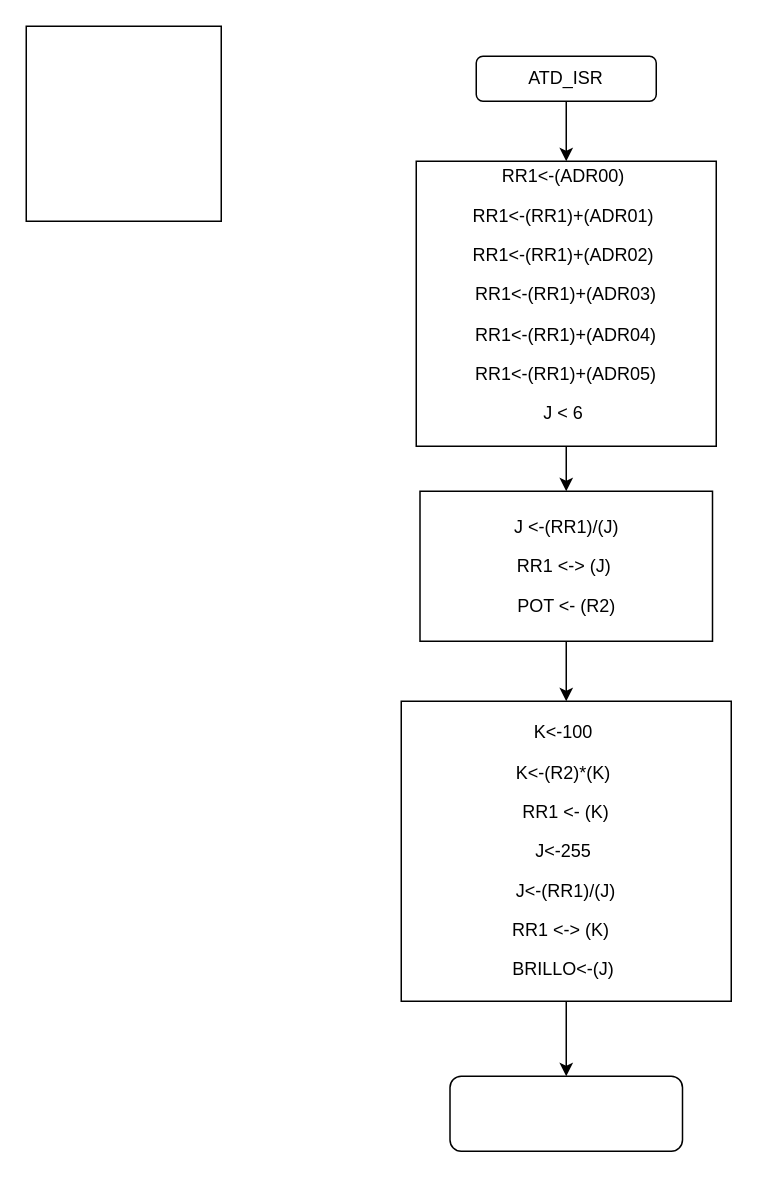
Some shapes in this 758 by 1178 pixel diagram are drawn without their labels. Here are the shapes that lost their labels. From the top down, the centre of each, then its label:
the point at 123,123: C - carry K. - Y J - X R1 - A R2 - B RR1 - D
the point at 565,1113: RETURN
